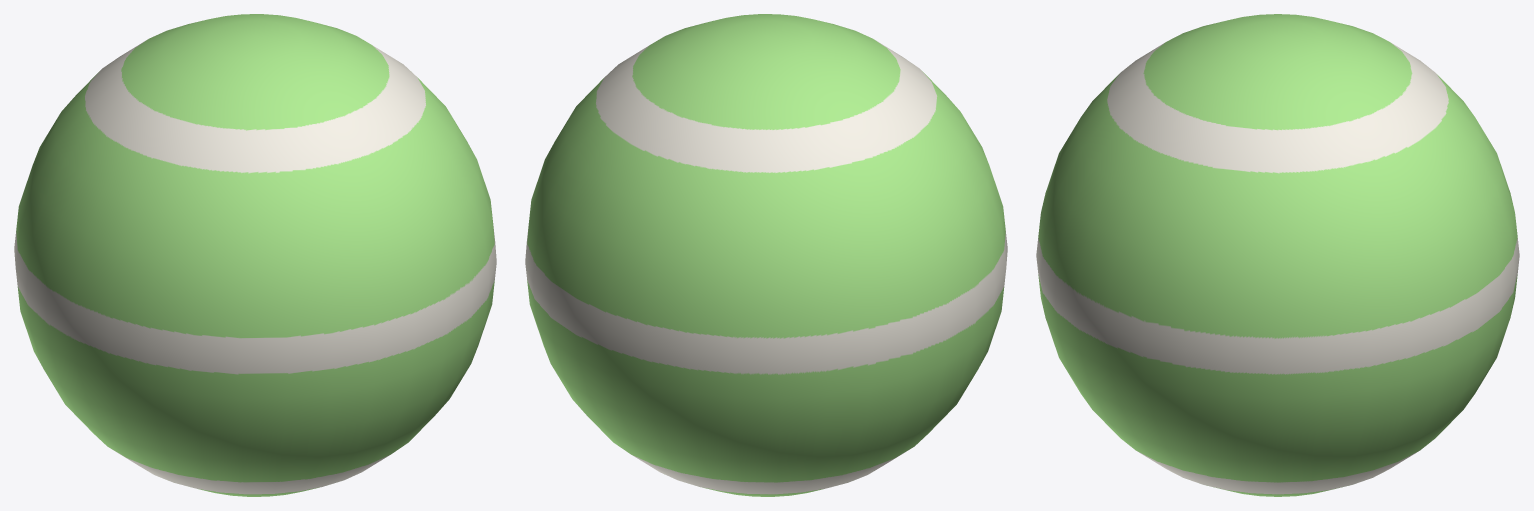
File: bola ijo.fbx
3 renders of one model, left to right at view 1: azimuth 30°, elevation 25°; view 2: azimuth 150°, elevation 25°; view 3: azimuth 270°, elevation 25°, orthographic.
Parts seen in each view (by area): view 1: bola ijo; view 2: bola ijo; view 3: bola ijo.
Boxes of the visible parts, x1,y1,x2,y2 form: bola ijo: (14, 14, 496, 496); bola ijo: (525, 14, 1007, 496); bola ijo: (1036, 14, 1519, 496).
Size of the model in its own units: 200 by 200 by 200.
1 material, 1 textured.
